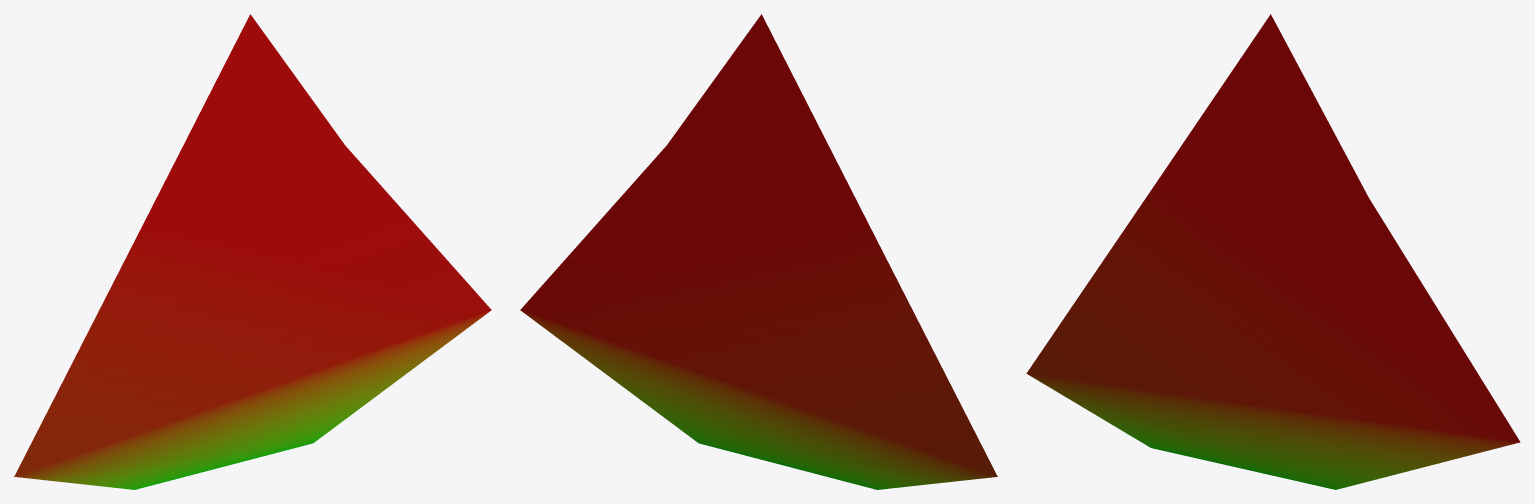
Rendered from White Everlasting_LOD5_Var10_ucvobbbia.fbx.
3 renders of one model, left to right at view 1: azimuth 30°, elevation 25°; view 2: azimuth 150°, elevation 25°; view 3: azimuth 330°, elevation 25°, orthographic. The views are drawn at different scales.
Visible parts, largest first — view 1: _fafa_Var10_LOD5; view 2: _fafa_Var10_LOD5; view 3: _fafa_Var10_LOD5.
Part boxes in pixels (x1,y1,x2,y2): _fafa_Var10_LOD5: (14,14,491,489); _fafa_Var10_LOD5: (520,14,997,489); _fafa_Var10_LOD5: (1026,14,1520,489).
Size of the model in its own units: 31.76 by 28.45 by 2.74e-06.
